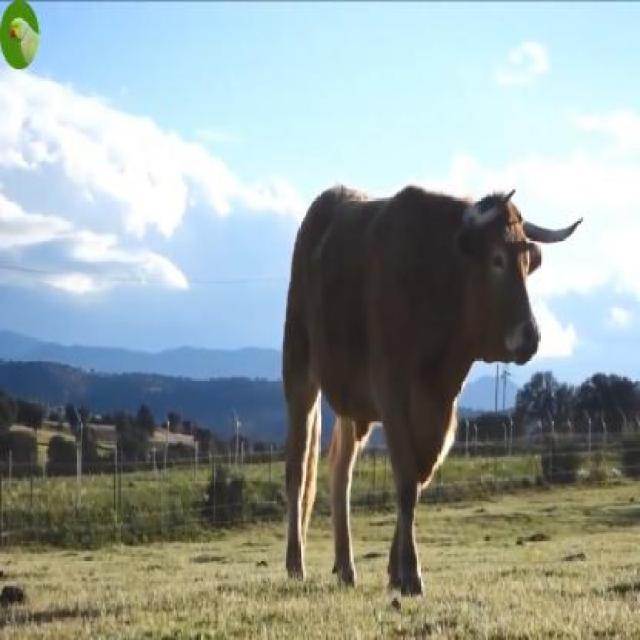Cow: (283, 177, 586, 588)
